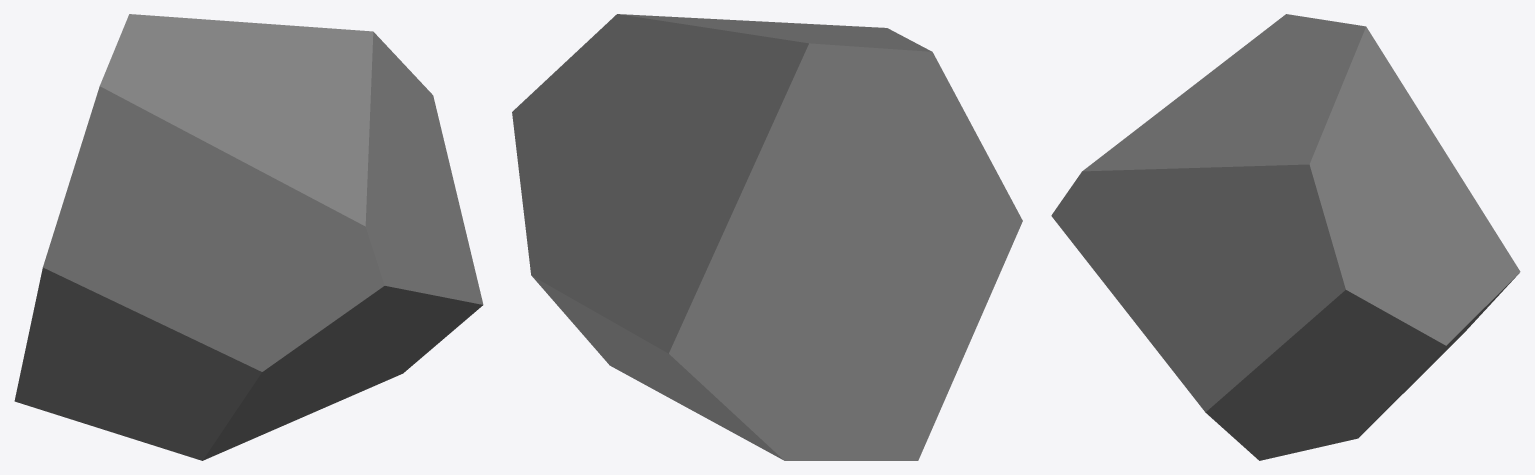
The model's file is Stone_01.fbx.
3 renders of one model, left to right at view 1: azimuth 30°, elevation 25°; view 2: azimuth 150°, elevation 25°; view 3: azimuth 270°, elevation 25°, orthographic. The views are drawn at different scales.
Parts seen in each view (by area): view 1: Stone_01; view 2: Stone_01; view 3: Stone_01.
Part boxes in pixels (left/top/right/bottom): Stone_01: left=14, top=14, right=483, bottom=460; Stone_01: left=512, top=14, right=1022, bottom=460; Stone_01: left=1051, top=14, right=1520, bottom=460.
Size of the model in its own units: 300 by 252 by 304.
